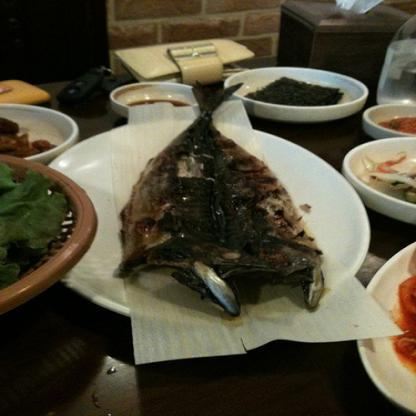Peixe: (106, 74, 338, 336)
